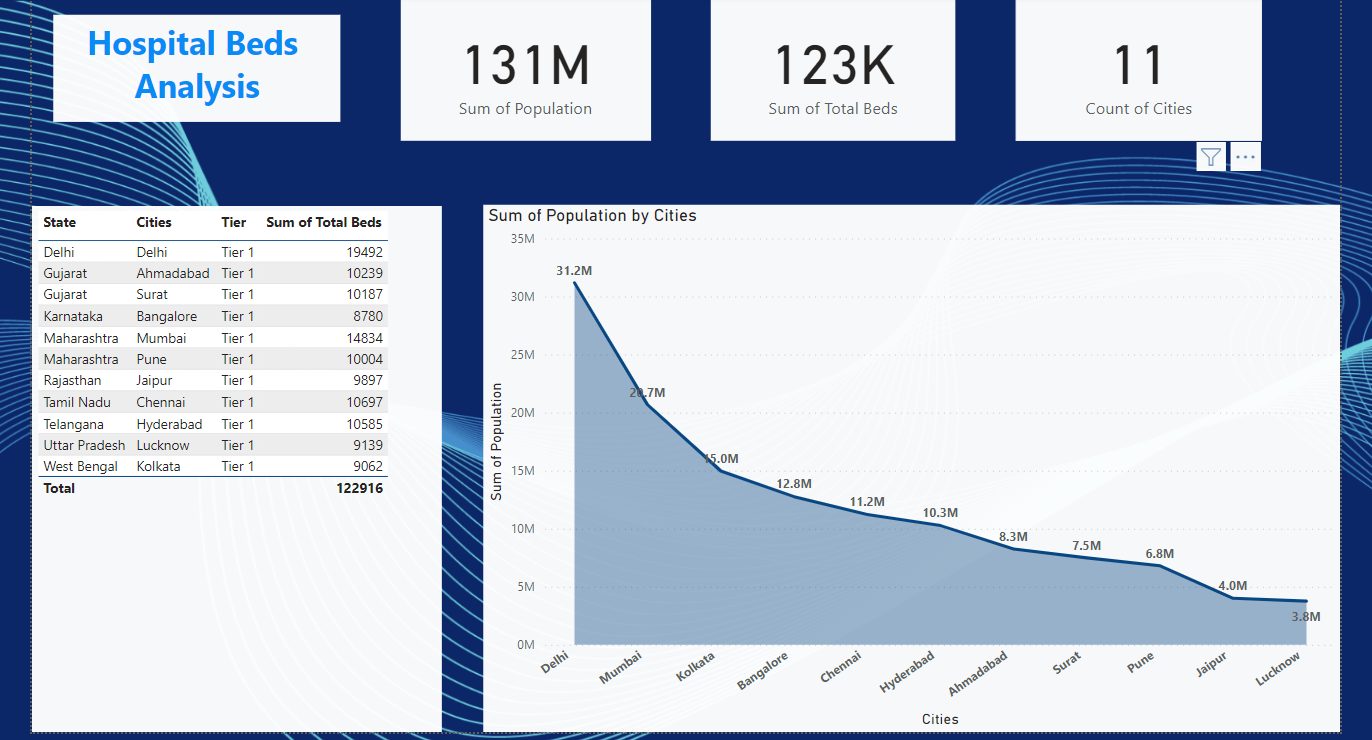

Layout of this report page (visuals, bound fields, positions):
{"tool":"powerbi","page":{"name":"Page 2","canvas":[1280,720],"ordinal":1},"visuals":[{"type":"card","fields":{"Values":["Sum(Hospital_beds.Population)"]},"box":[360.7,0,244.5,141.8],"z":0},{"type":"tableEx","fields":{"Values":["Location.State","Location.Cities","Hospital_beds.Tier","Sum(Hospital_beds.Total Beds)"]},"box":[0,205.9,400.7,514.8],"z":1},{"type":"areaChart","fields":{"Y":["Sum(Hospital_beds.Population)"],"Category":["Hospital_beds.Cities"]},"box":[441,204.5,839,516.2],"z":3},{"type":"card","fields":{"Values":["Sum(Hospital_beds.Total Beds)"]},"box":[663.9,0,239.6,141.8],"z":4},{"type":"card","fields":{"Values":["CountNonNull(Hospital_beds.Cities)"]},"box":[962.3,0,240.8,141.8],"z":5},{"type":"textbox","box":[20.8,18.3,281.2,105.1],"z":6}]}

Visuals, with their boxes in screenshot pixels (x1, y1, x2, y2):
card - Sum(Hospital_beds.Population): box(401, 0, 649, 140)
tableEx - Location.State x Location.Cities: box(36, 205, 442, 727)
areaChart - Sum(Hospital_beds.Population) x Hospital_beds.Cities: box(482, 204, 1332, 727)
card - Sum(Hospital_beds.Total Beds): box(708, 0, 951, 140)
card - CountNonNull(Hospital_beds.Cities): box(1011, 0, 1254, 140)
textbox: box(57, 15, 342, 121)
